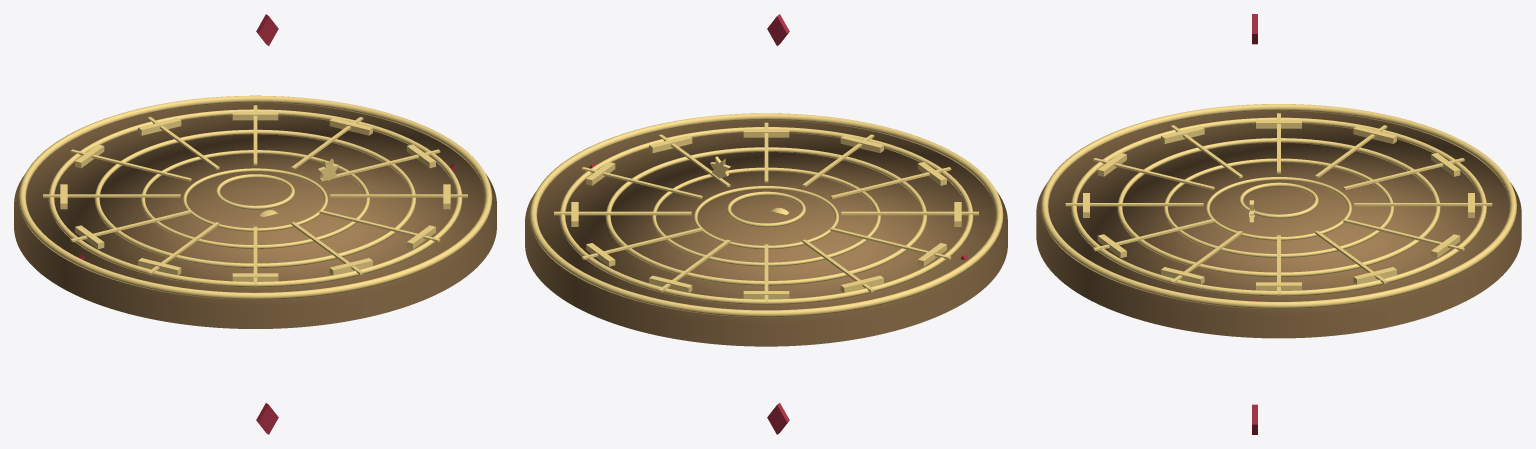
File: astral-plate.glb
3 renders of one model, left to right at view 1: azimuth 30°, elevation 25°; view 2: azimuth 150°, elevation 25°; view 3: azimuth 270°, elevation 25°, orthographic.
Visible parts, largest first — view 1: thick astrolabe bronze disk, raised zodiac and house rings, fine radial house lines, twelve raised house markers, sun moon and star markers, cardinal gemstone direction points; view 2: thick astrolabe bronze disk, raised zodiac and house rings, fine radial house lines, twelve raised house markers, sun moon and star markers, cardinal gemstone direction points; view 3: thick astrolabe bronze disk, raised zodiac and house rings, fine radial house lines, twelve raised house markers, sun moon and star markers.
Boxes of the visible parts, x1,y1,x2,y2 form: thick astrolabe bronze disk: [14, 102, 496, 328]; raised zodiac and house rings: [18, 95, 492, 299]; fine radial house lines: [43, 105, 467, 286]; twelve raised house markers: [60, 111, 450, 281]; sun moon and star markers: [216, 158, 338, 217]; cardinal gemstone direction points: [78, 14, 456, 434]; thick astrolabe bronze disk: [525, 120, 1007, 346]; raised zodiac and house rings: [529, 113, 1003, 317]; fine radial house lines: [554, 122, 978, 303]; twelve raised house markers: [571, 129, 961, 299]; sun moon and star markers: [710, 156, 805, 227]; cardinal gemstone direction points: [589, 14, 967, 434]; thick astrolabe bronze disk: [1036, 111, 1521, 338]; raised zodiac and house rings: [1041, 104, 1516, 308]; fine radial house lines: [1065, 113, 1492, 295]; twelve raised house markers: [1083, 119, 1474, 290]; sun moon and star markers: [1239, 182, 1318, 222].
Size of the model in its own units: 2.32 by 2.22 by 2.32.
